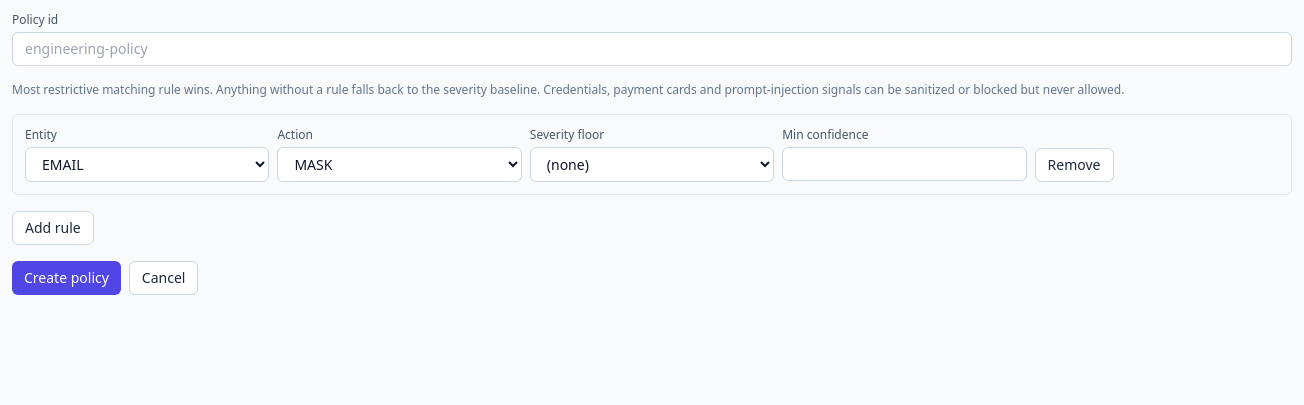
Test: PolicyEditor › rules can be added and removed
The image size is (1304, 405).
Step 1. Click the button "Add rule" → click(53, 228), box [12,211,94,245]
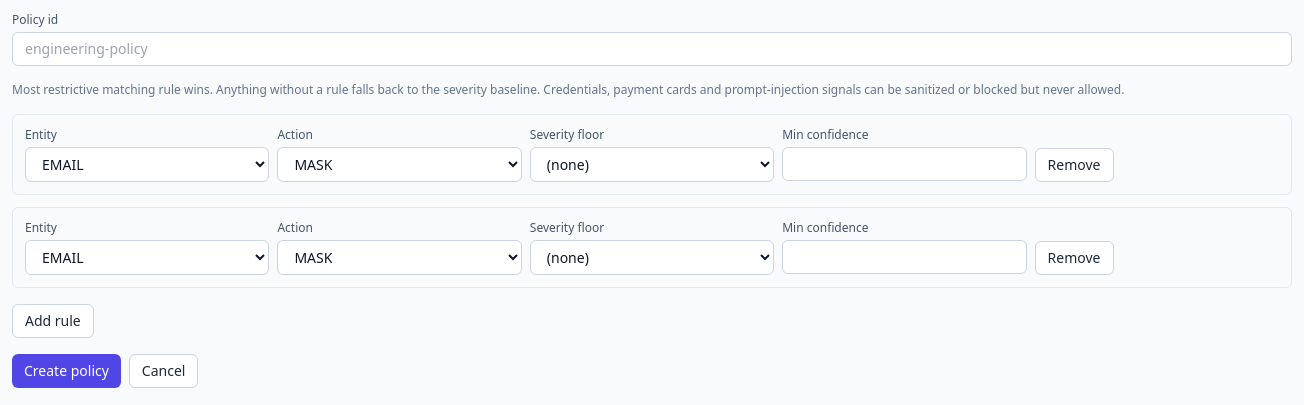
Expected: the number of dropdowns labelled "Entity" is 2, [25,147,269,182]; [25,240,269,275]
Step 2. Click the button with aria-label "Remove rule 1" → click(1074, 165), box [1035,148,1114,182]
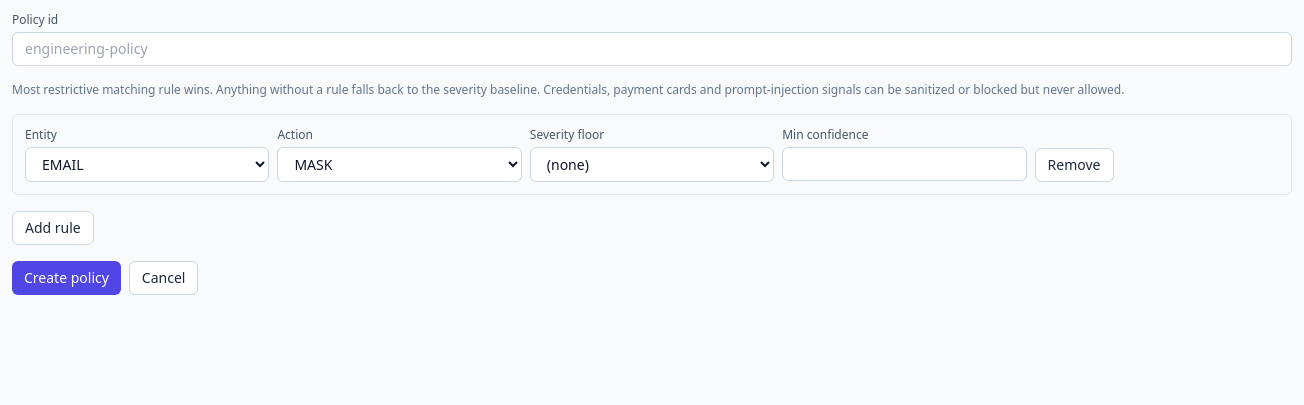
Expected: the number of dropdowns labelled "Entity" is 1, [25,147,269,182]
